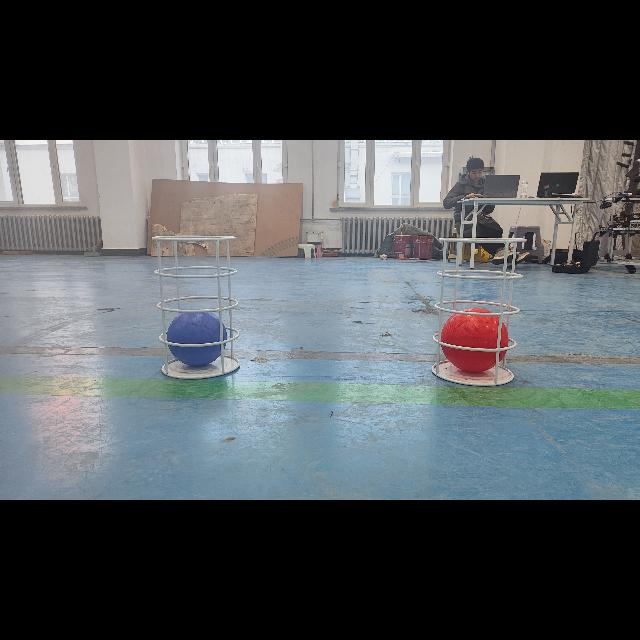B: (167, 309, 227, 366)
R: (442, 308, 508, 372)
S: (428, 231, 528, 389), (148, 230, 245, 384)
